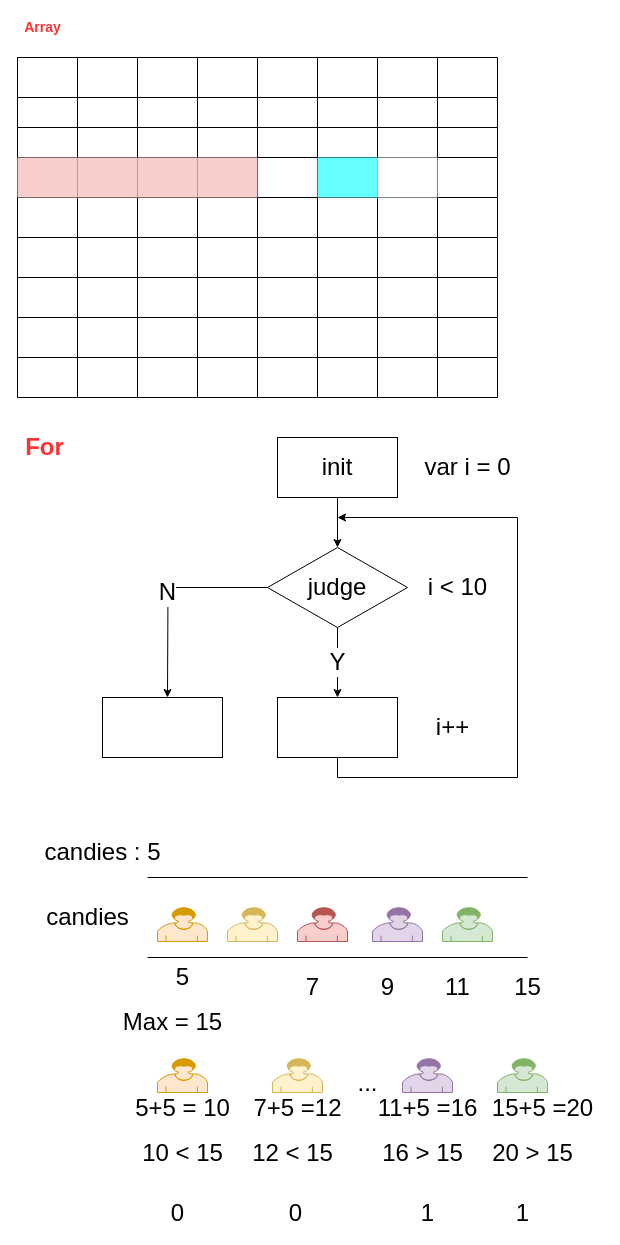
The diagram is 620 pixels wide and 1245 high, and some of its shapes have lost their labels. Each missing label, with the centre of its shape:
"increase" belongs at point (337, 727).
"Over" belongs at point (162, 727).
